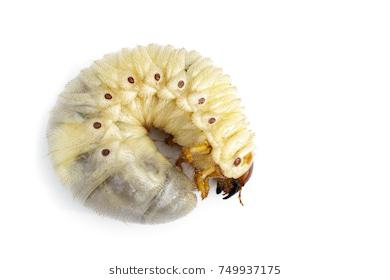grub: (45, 42, 255, 225)
